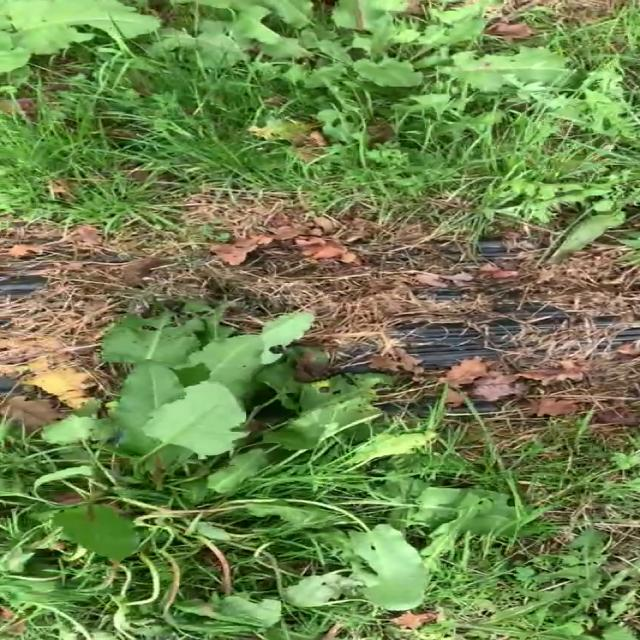organic waste: (0, 289, 474, 640), (121, 0, 578, 130), (0, 0, 167, 84)
